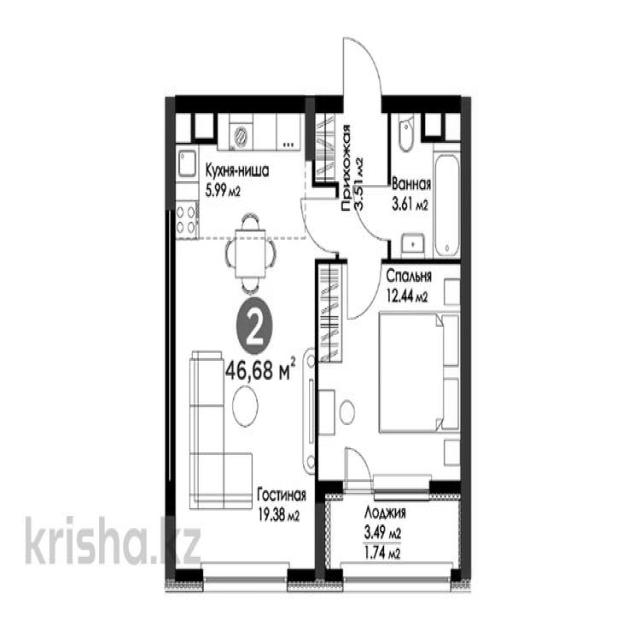balcony: (320, 490, 465, 580)
bathroom: (390, 108, 466, 262)
hallway: (313, 101, 386, 260)
living_room: (318, 261, 465, 488)
studio: (170, 103, 318, 582)
